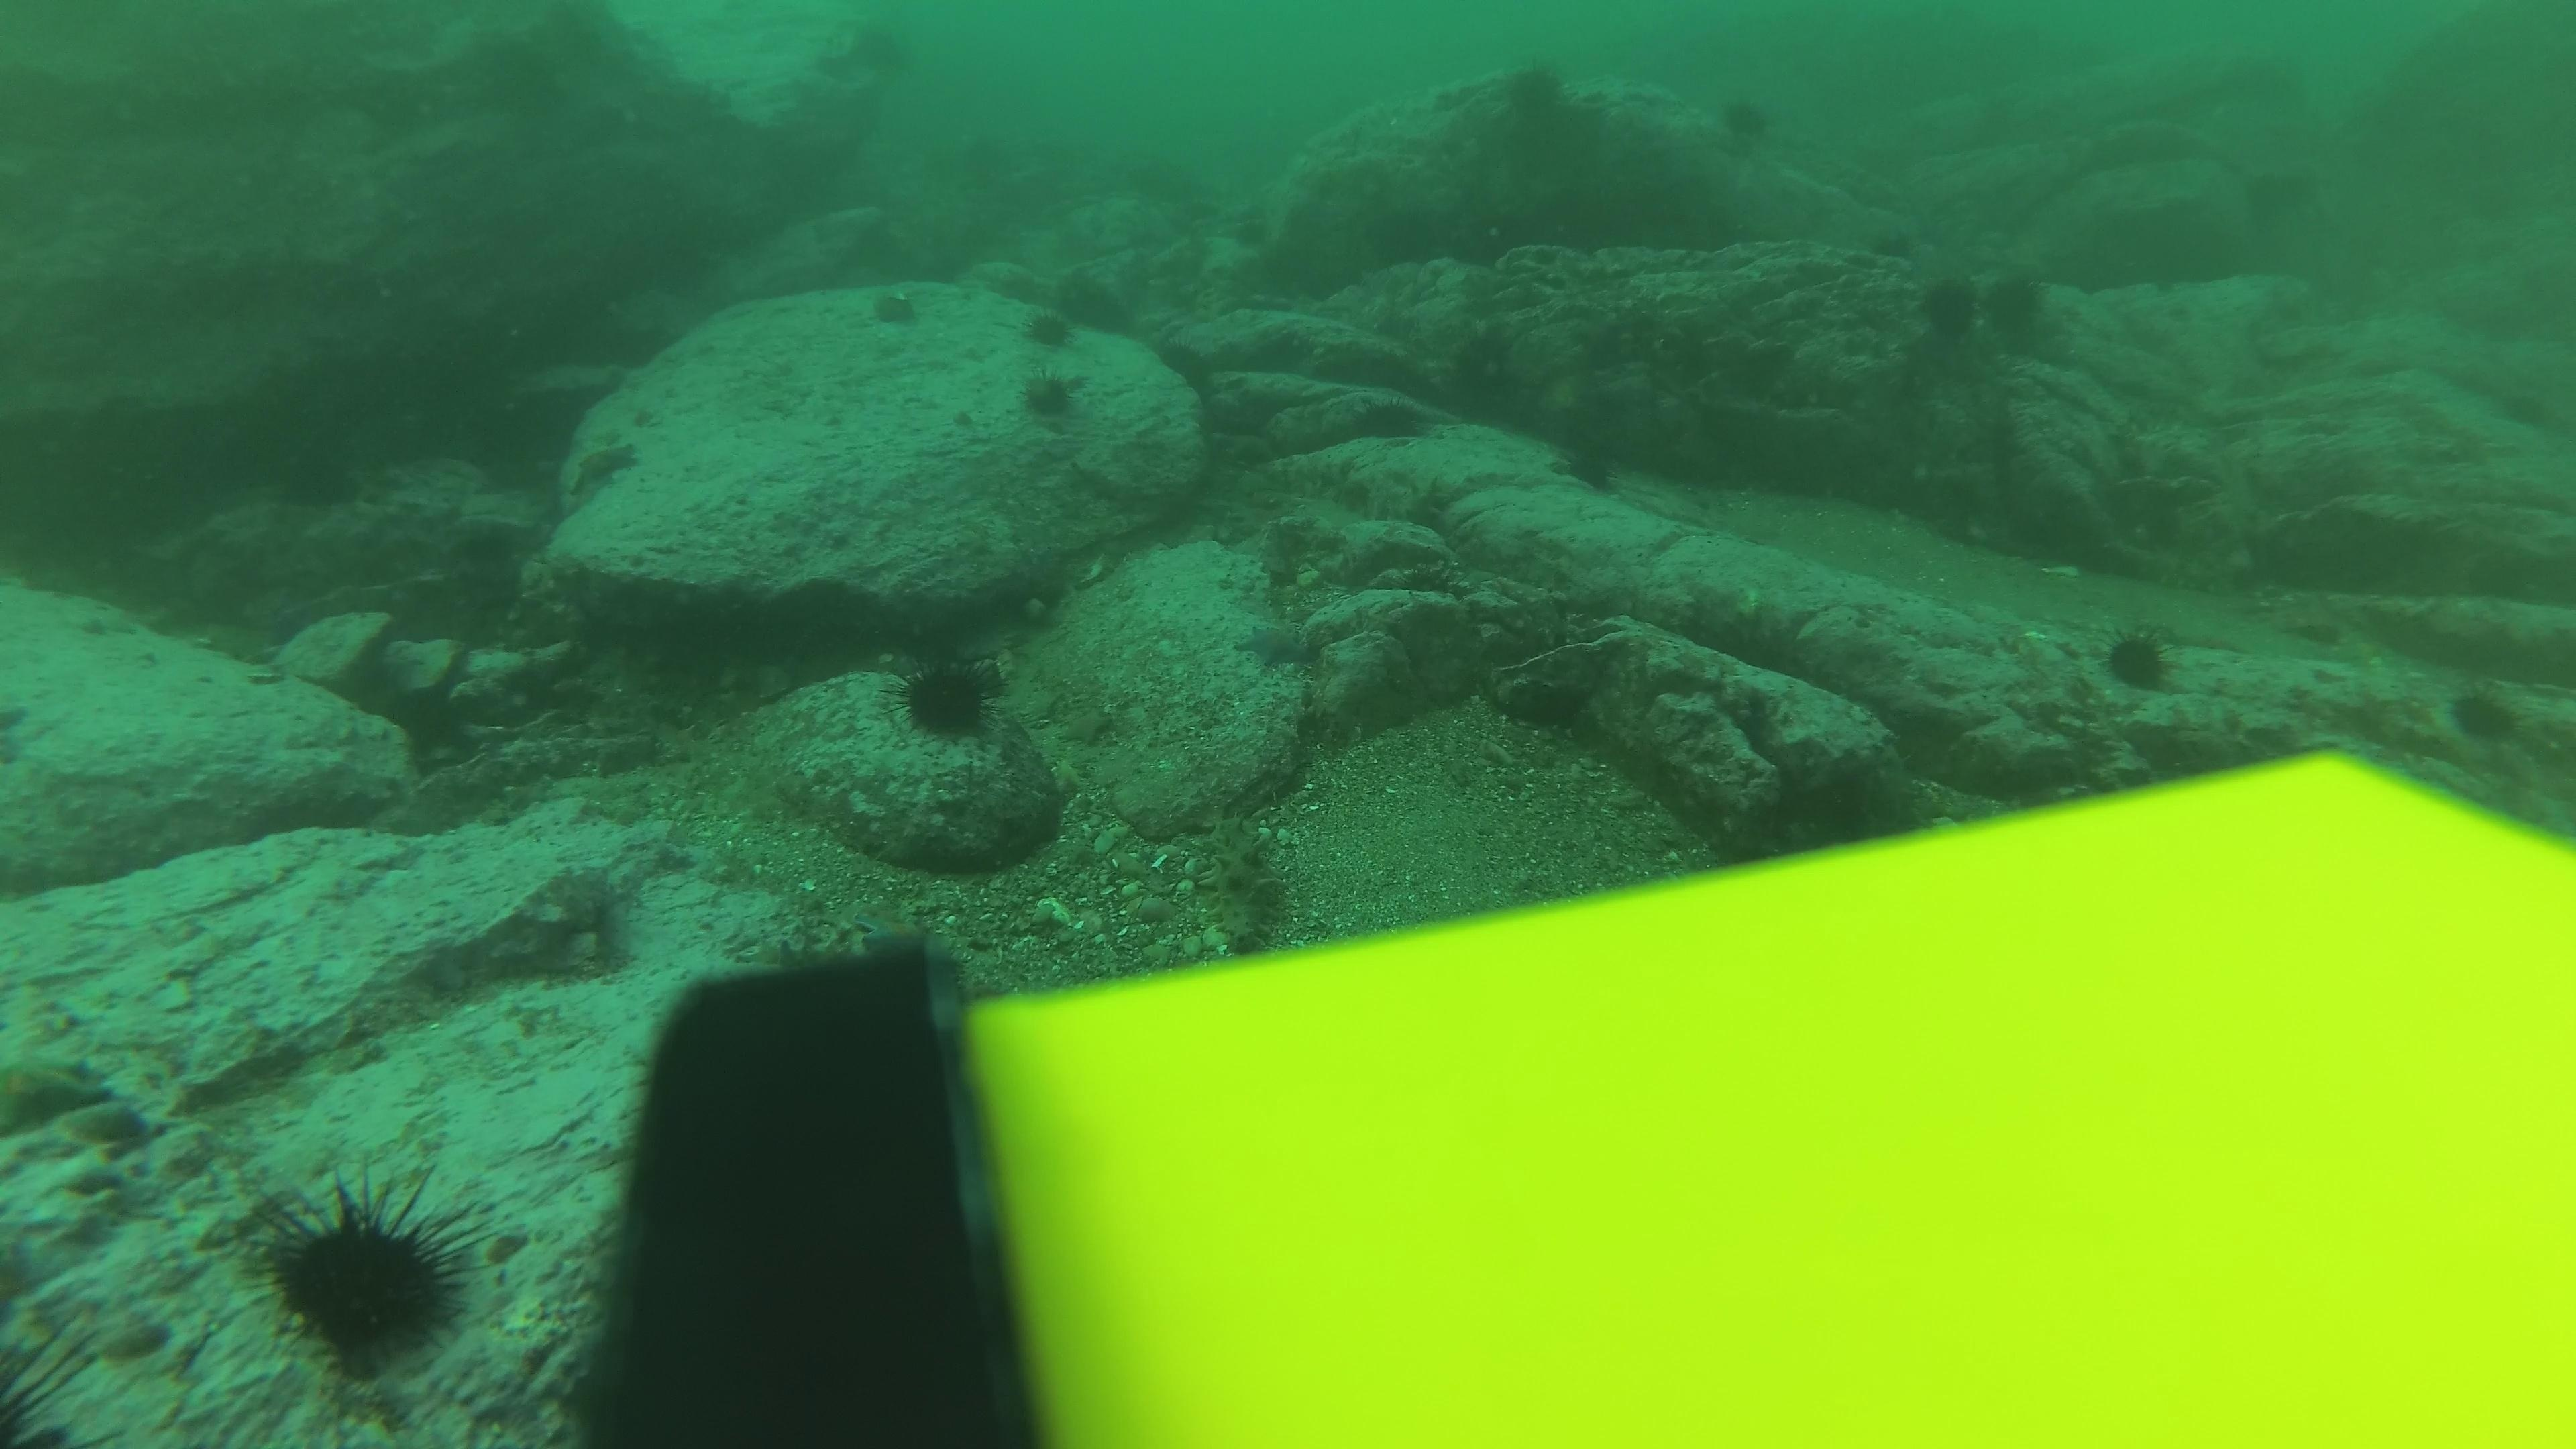echinus: (248, 1168, 483, 1371), (885, 646, 1010, 748), (1971, 264, 2059, 354), (2093, 619, 2185, 699), (2434, 667, 2526, 747), (1911, 269, 1987, 349), (1548, 430, 1629, 499), (1691, 74, 1773, 143), (1350, 382, 1431, 451), (1497, 48, 1576, 117), (1014, 366, 1090, 430), (1016, 299, 1086, 356)
holothurian: (1185, 817, 1302, 961)
starfish: (0, 1051, 120, 1141), (1233, 614, 1327, 674), (557, 435, 644, 499), (847, 913, 945, 968)
